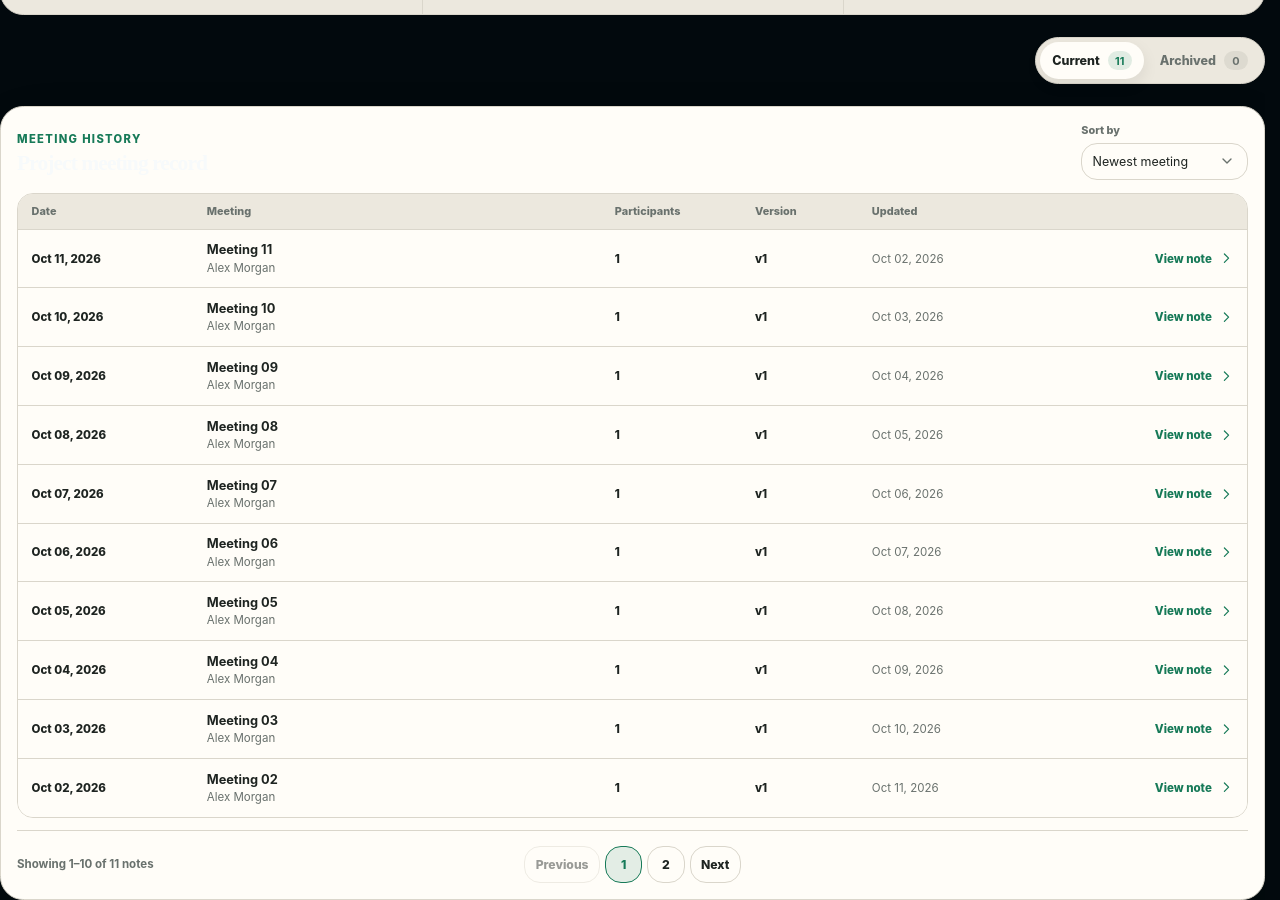
Test: Meeting Notes sorting and pagination › sorts by oldest meeting and most recently updated, resetting to page one
The width and height of the screenshot is (1280, 900).
(page scrolled)
expect the text "Meeting 11" is shown: met, box [207, 242, 272, 258]
Click the button named "Page 2": [666, 864] box [647, 846, 685, 883]
(page scrolled)
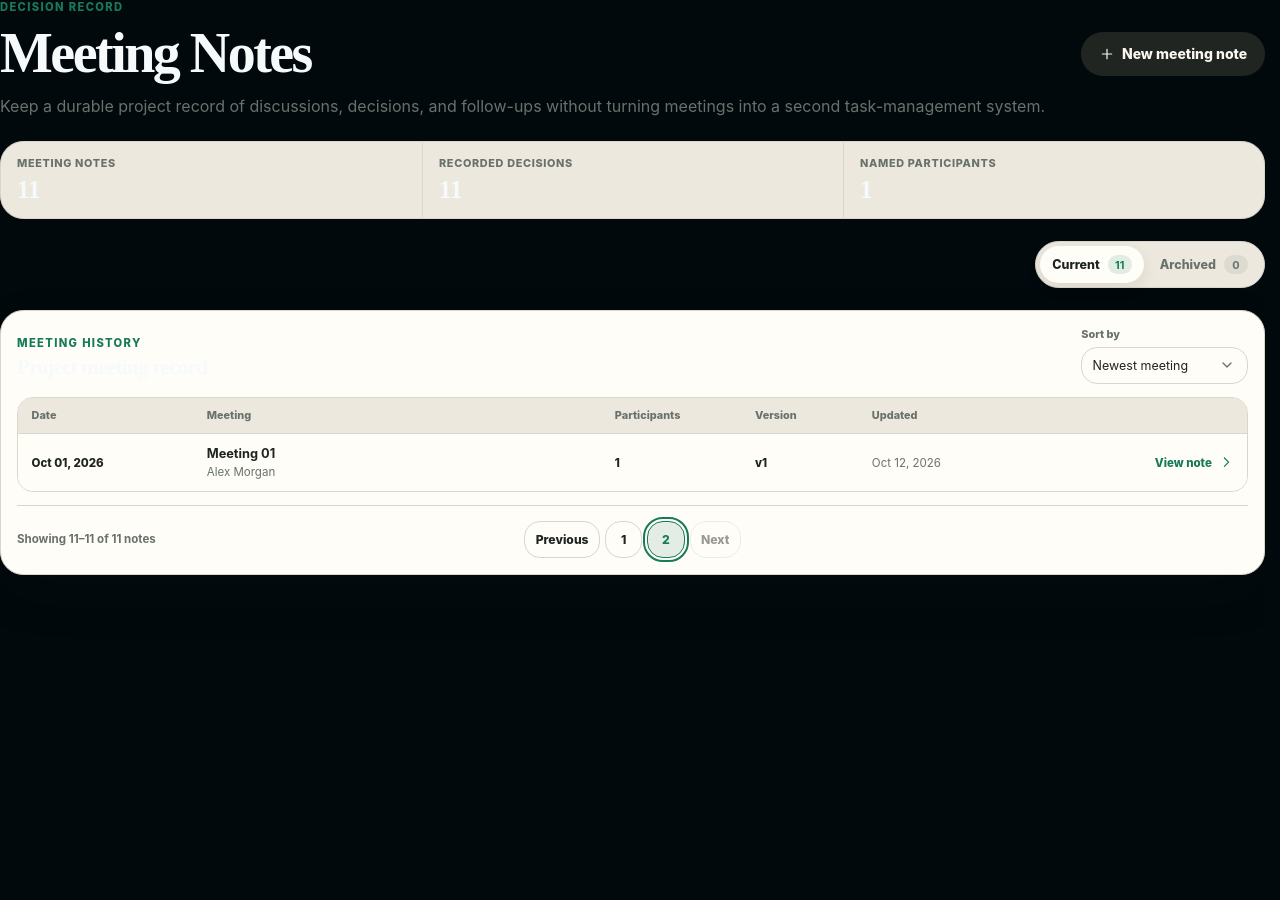
Select "Oldest meeting" in the dropdown labelled "Sort by": [1165, 365] box [1081, 346, 1248, 384]
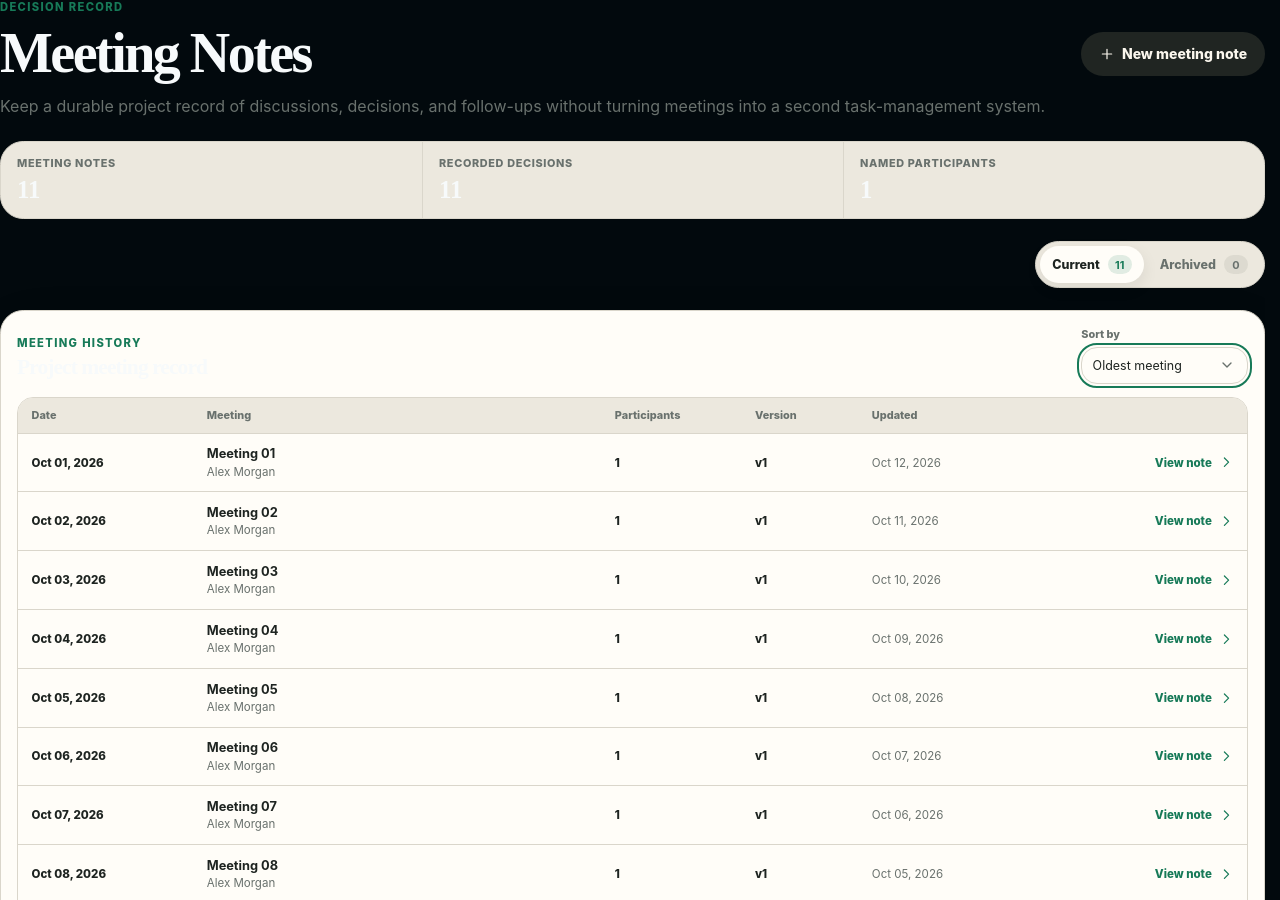
expect the text "Meeting 01" is shown: met, box [207, 446, 275, 462]
Select "Newest meeting" in the dropdown labelled "Sort by": [1165, 365] box [1081, 346, 1248, 384]
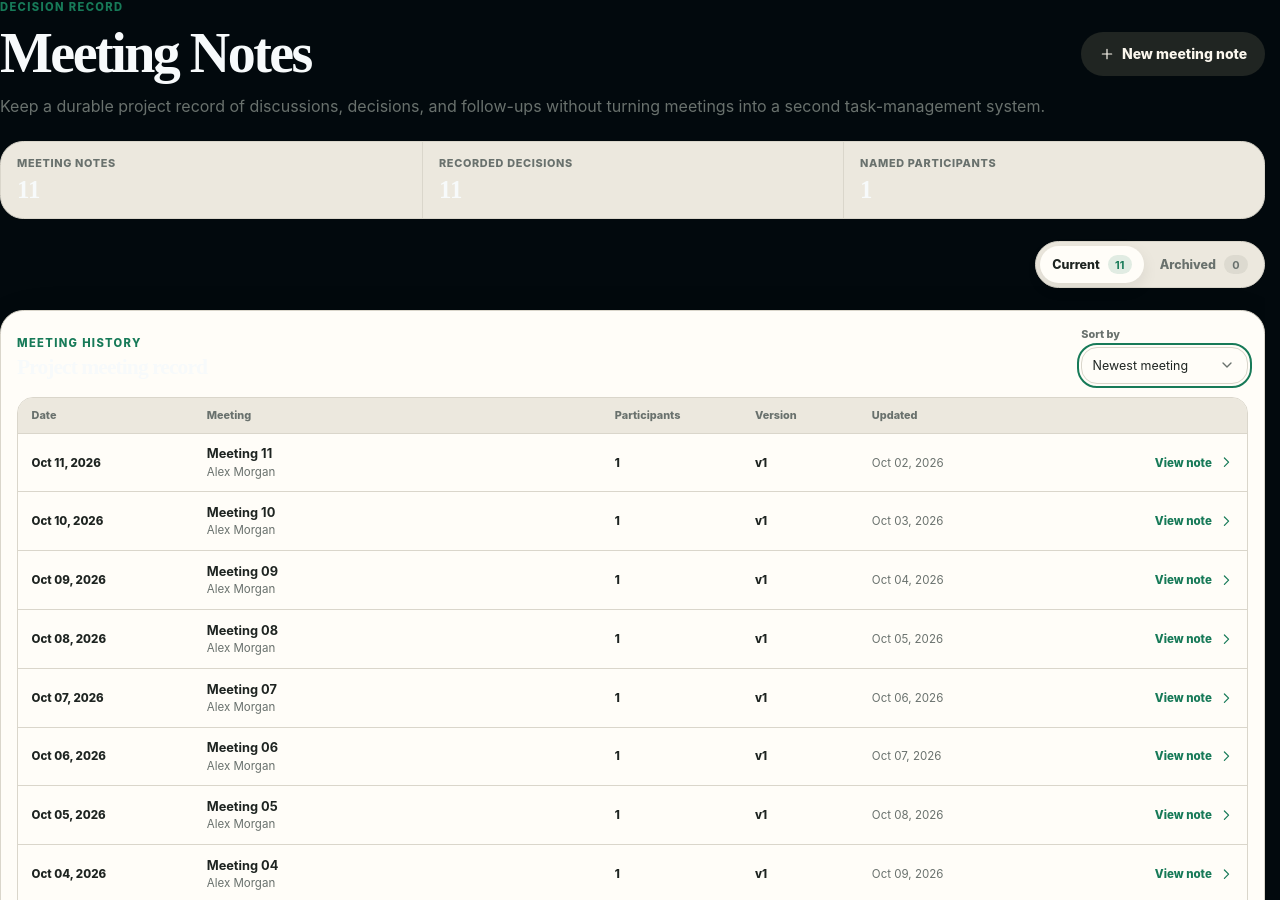
expect the text "Meeting 11" is shown: met, box [207, 446, 272, 462]
expect the link "Meeting 01" is gone: met
Select "Recently updated" in the dropdown labelled "Sort by": [1165, 365] box [1081, 346, 1248, 384]
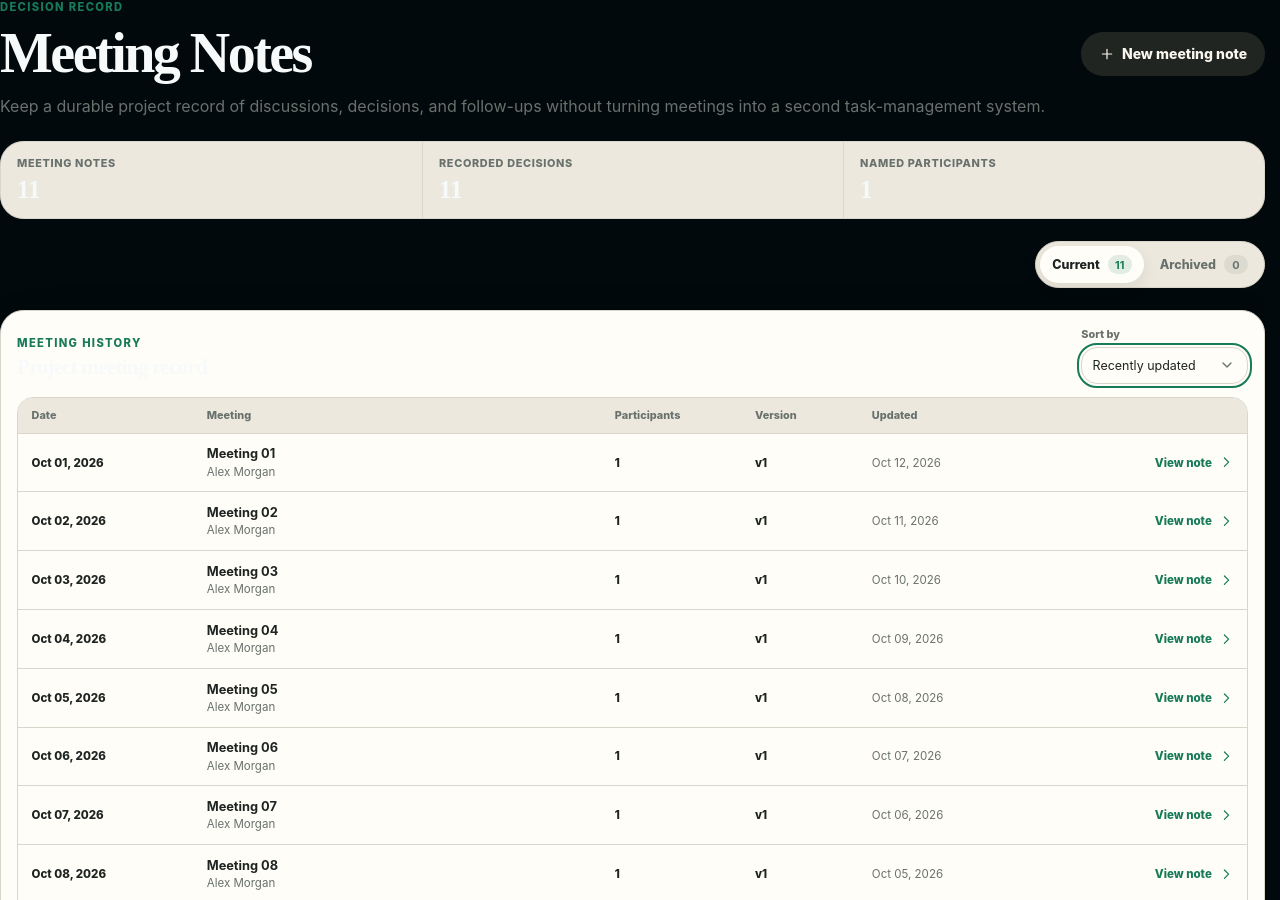
expect the text "Meeting 01" is shown: met, box [207, 446, 275, 462]
expect the link "Meeting 11" is gone: met
